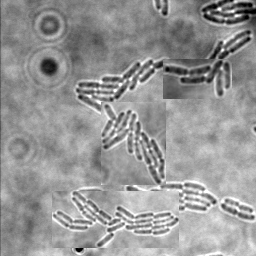Dividing: (219, 204, 255, 222), (223, 199, 253, 215)
Microcolony: (52, 191, 179, 248), (75, 59, 169, 136), (101, 102, 166, 185), (163, 59, 232, 99), (204, 30, 251, 72), (200, 1, 255, 26)
